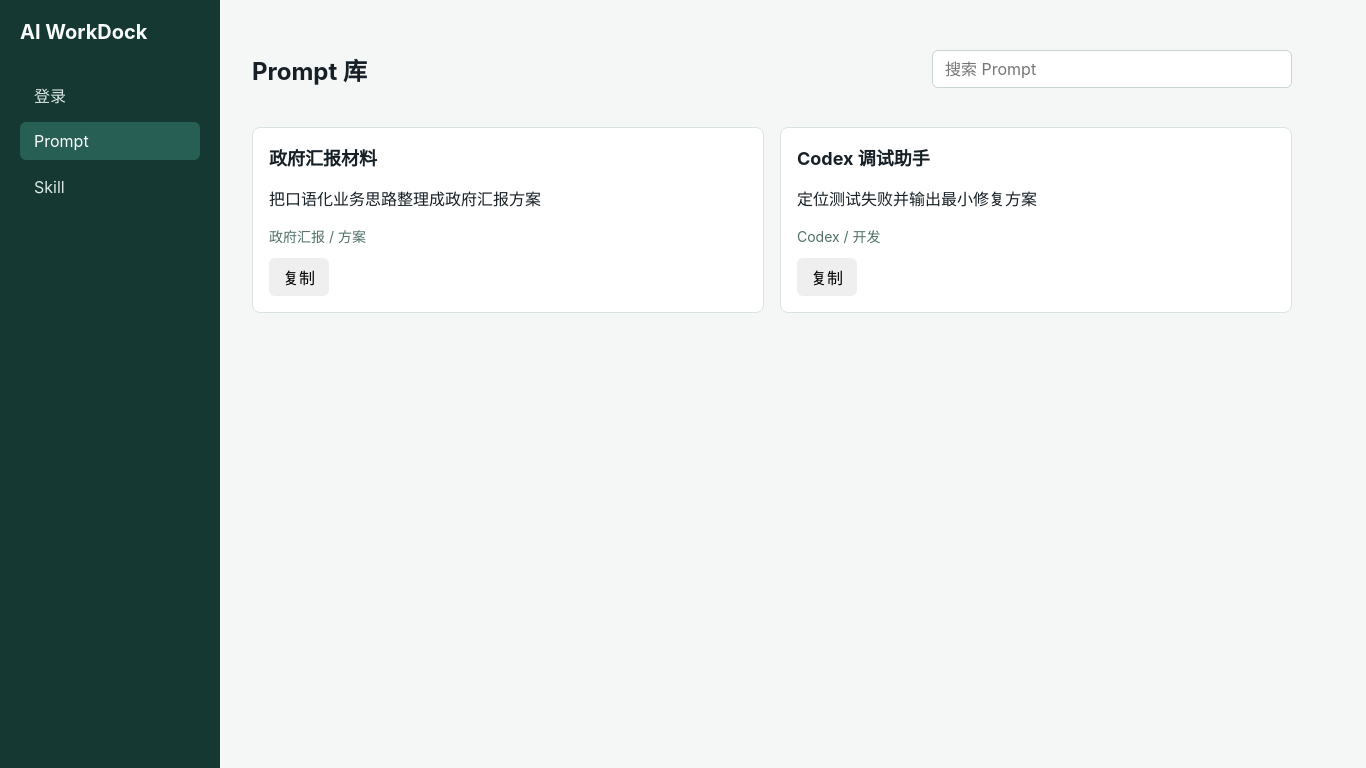
Test case: AI WorkDock admin web › shows copy success for prompts
Click the button "复制" below "政府汇报 / 方案". click: (299, 277)
box: [269, 258, 329, 296]
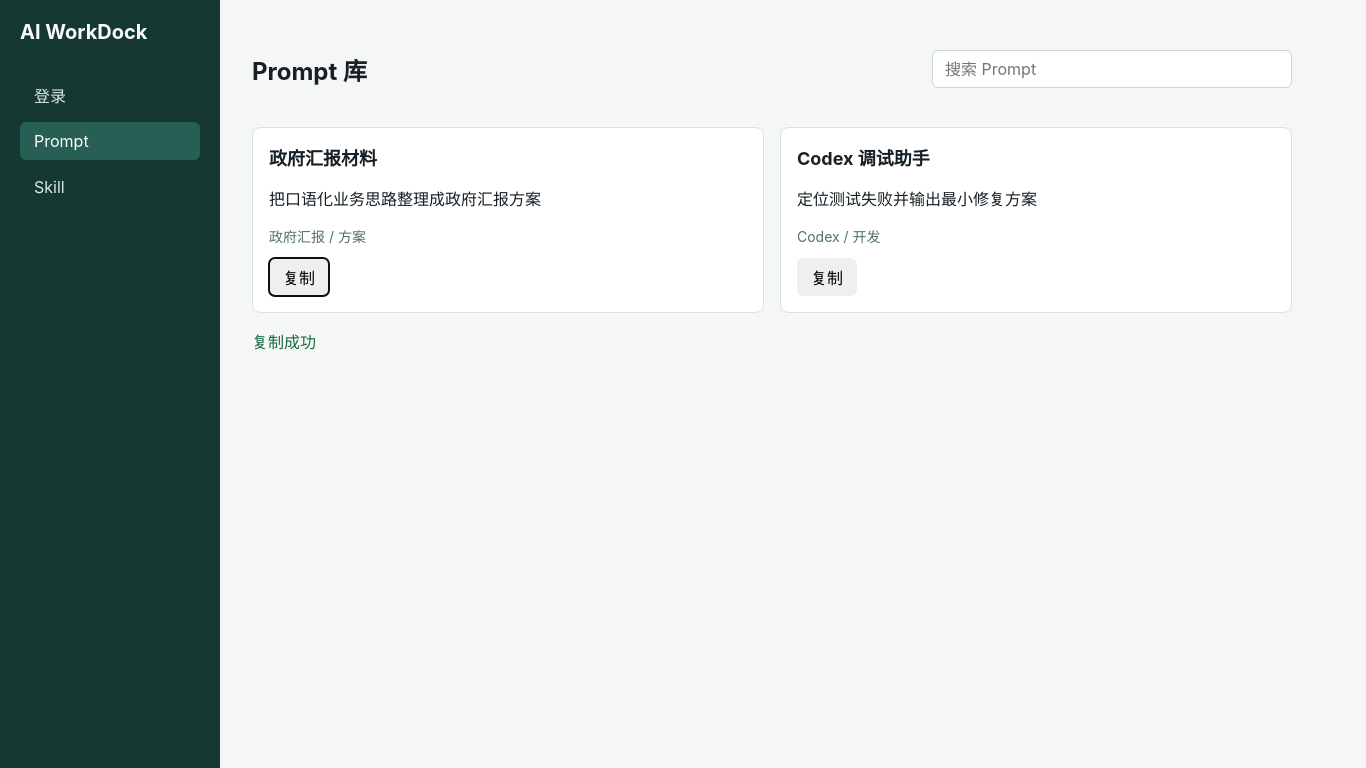
Expected: the text "复制成功" is shown, [252, 332, 316, 352]
